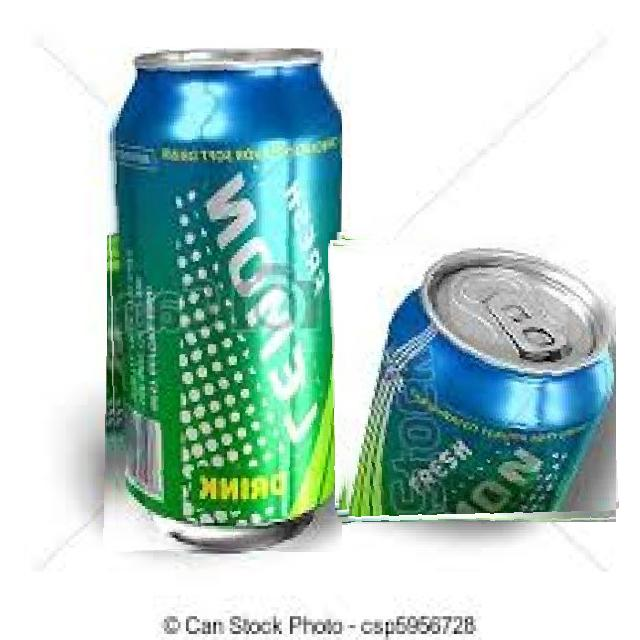recyclable: (105, 48, 342, 552), (327, 232, 616, 522)
